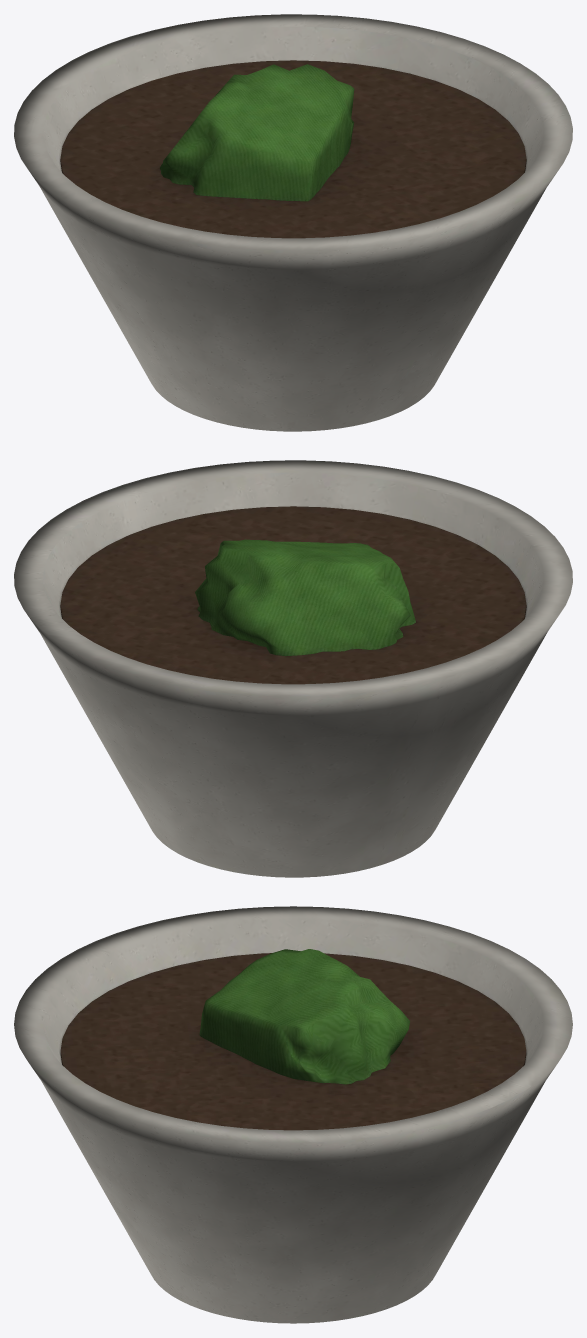
The model's file is concrete-bowl.glb.
3 renders of one model, top to bottom at view 1: azimuth 30°, elevation 25°; view 2: azimuth 150°, elevation 25°; view 3: azimuth 270°, elevation 25°, orthographic.
Parts seen in each view (by area): view 1: concrete, soil, shrub_leaves; view 2: concrete, soil, shrub_leaves; view 3: concrete, soil, shrub_leaves.
Part boxes in pixels (left/top/right/bottom): concrete: left=14, top=14, right=572, bottom=431; soil: left=60, top=60, right=526, bottom=238; shrub_leaves: left=160, top=64, right=354, bottom=201; concrete: left=14, top=460, right=572, bottom=877; soil: left=60, top=506, right=526, bottom=684; shrub_leaves: left=195, top=539, right=415, bottom=656; concrete: left=14, top=906, right=572, bottom=1323; soil: left=60, top=953, right=526, bottom=1130; shrub_leaves: left=199, top=949, right=410, bottom=1084.
Size of the model in its own units: 0.96 by 0.5303 by 0.96.
3 materials, 3 textured.
